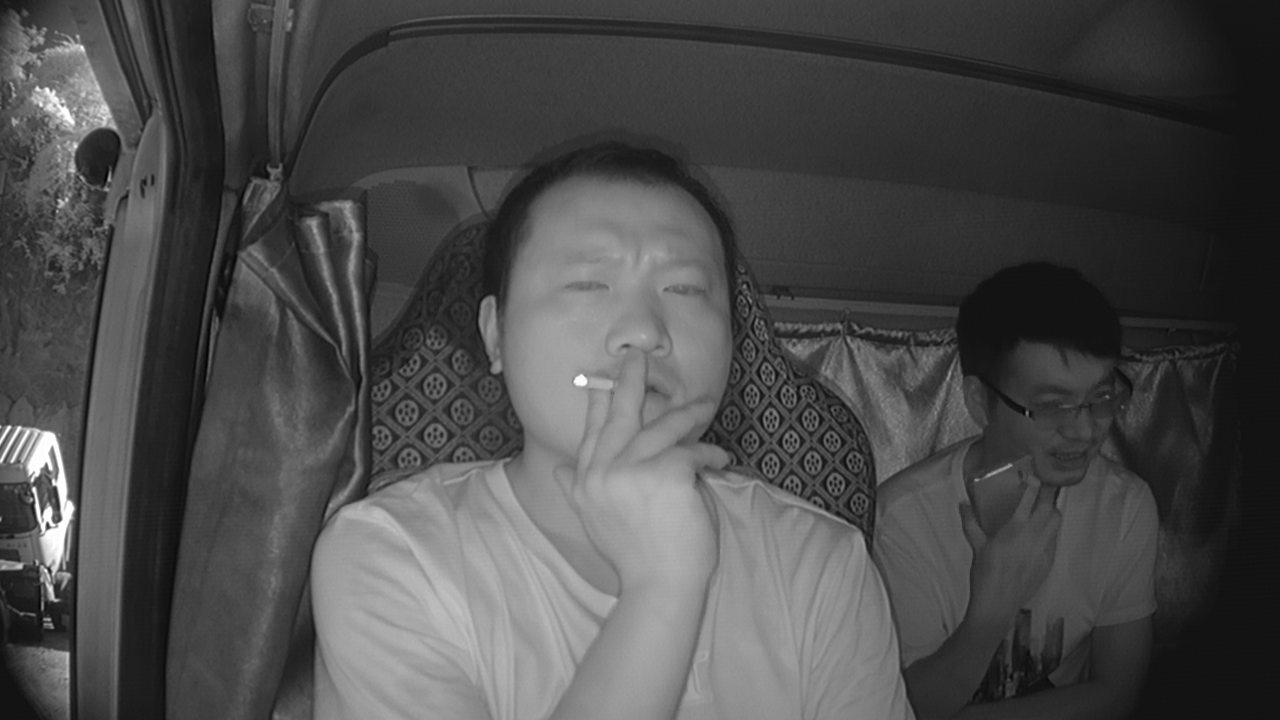hand: (559, 354, 698, 521)
